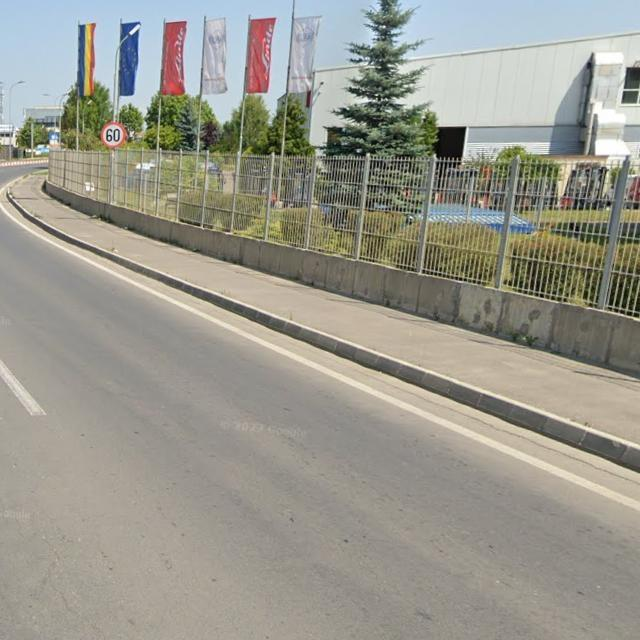forb_speed_over_60: (101, 121, 126, 148)
